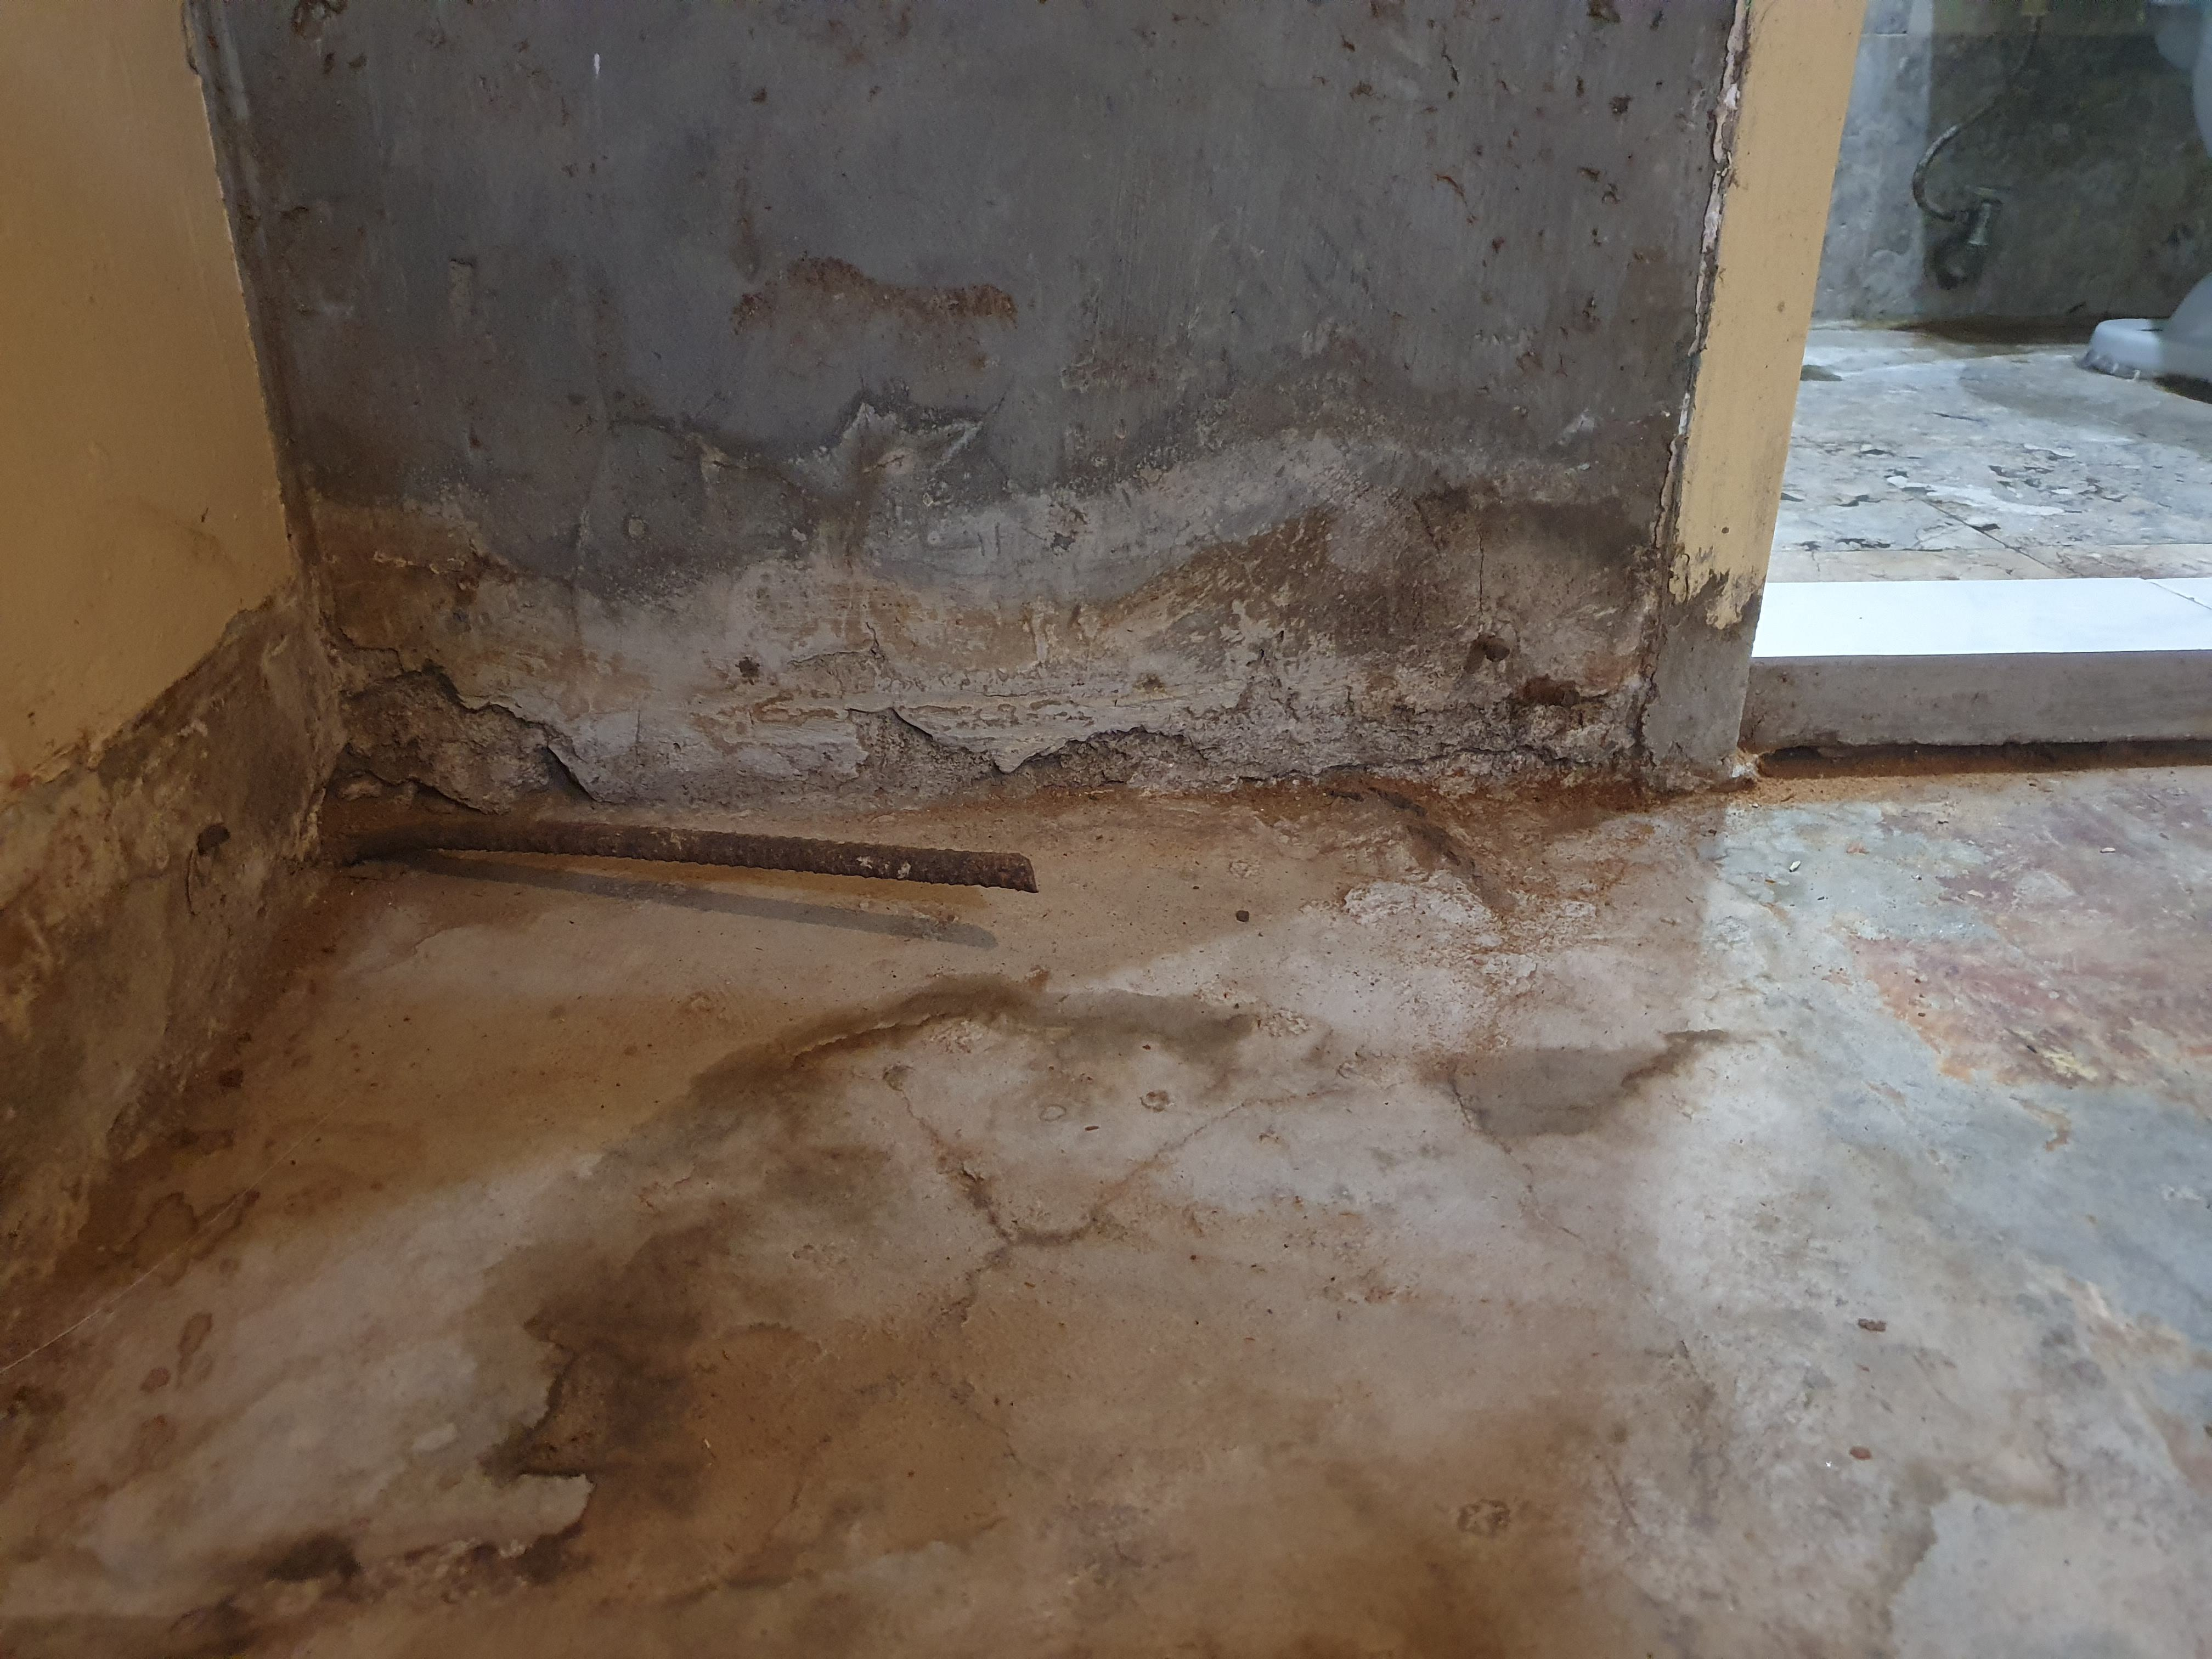Exposed reinforcement: (319, 802, 1042, 896)
Spalling: (320, 420, 1667, 784), (0, 586, 317, 1356)
